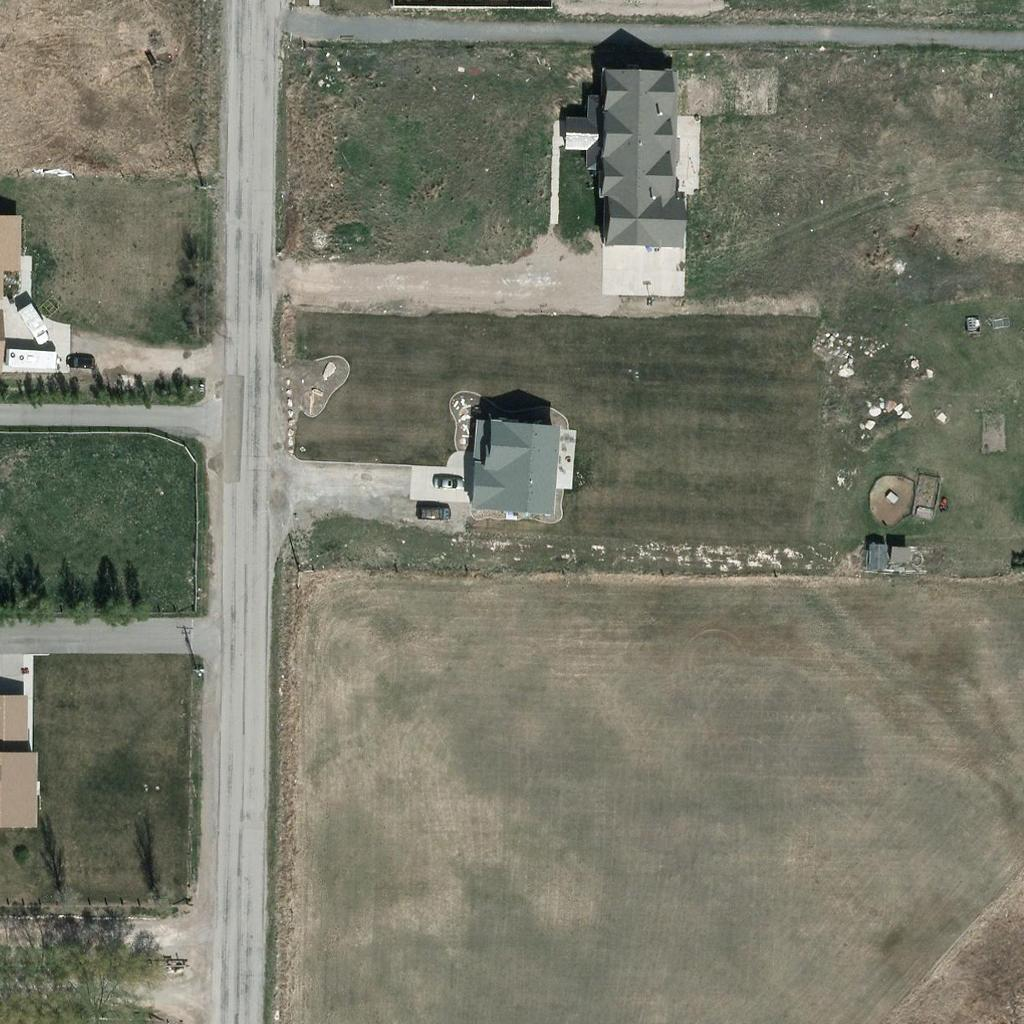car: (63, 344, 97, 378), (431, 464, 465, 498), (416, 496, 450, 530)
